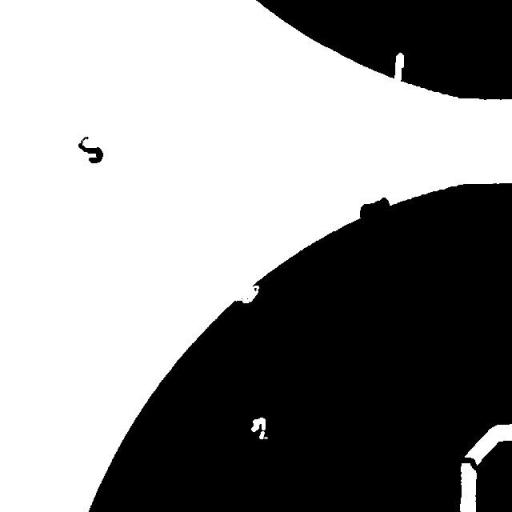copper: (70, 129, 110, 170)
mousebite: (224, 274, 266, 310), (386, 45, 412, 91)
pin-hole: (243, 410, 275, 446)
short: (450, 450, 486, 478)
spur: (352, 190, 399, 227)
